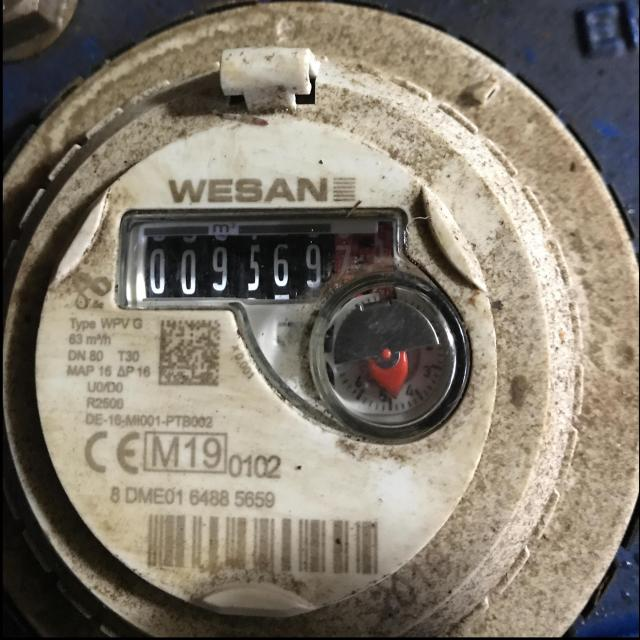gaz_meter: (32, 112, 500, 611)
indication: (142, 228, 368, 300)
